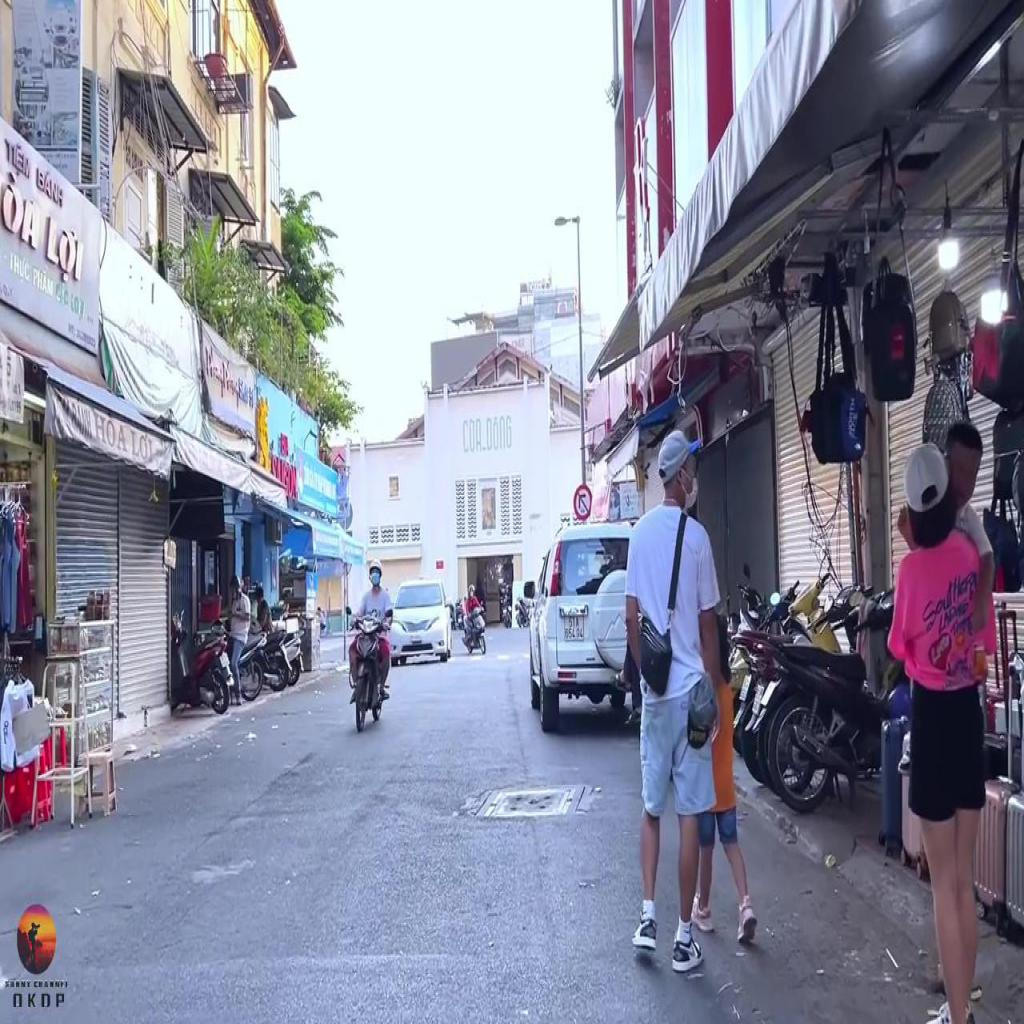cam_o_to_re_phai: (572, 481, 592, 519)
